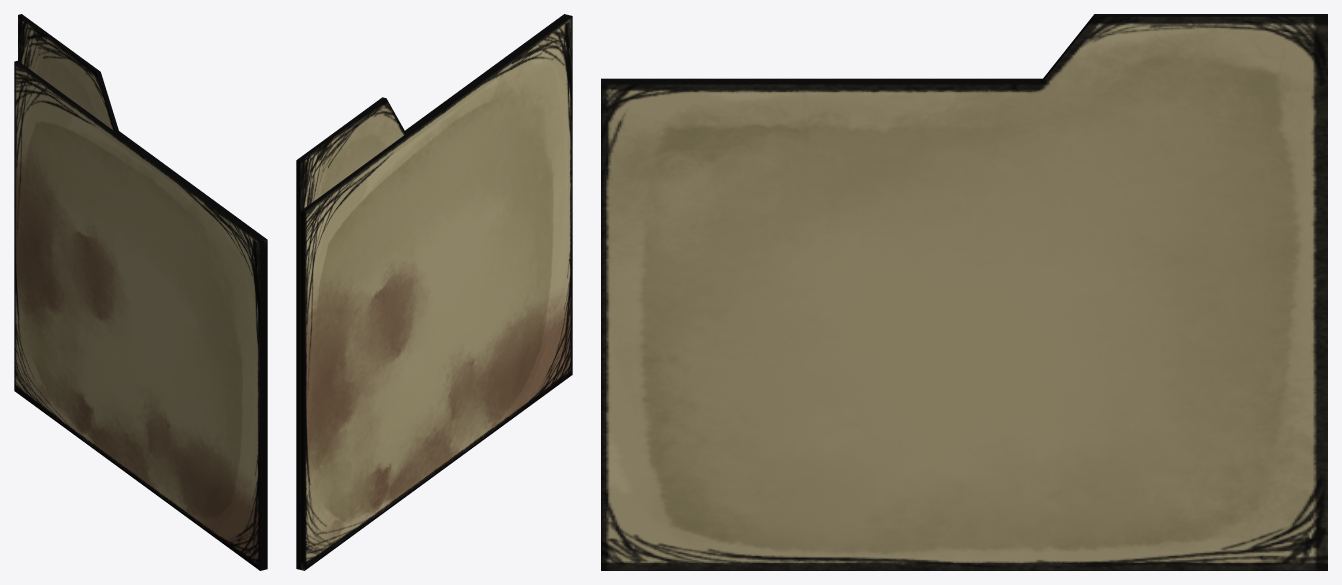
Rendered from folder_hax.fbx.
3 renders of one model, left to right at view 1: azimuth 30°, elevation 25°; view 2: azimuth 150°, elevation 25°; view 3: azimuth 270°, elevation 25°, orthographic. The views are drawn at different scales.
Parts seen in each view (by area): view 1: folder_front.013, folder_hax; view 2: folder_front.013, folder_hax; view 3: folder_hax, folder_front.013.
Part boxes in pixels (x1=…): folder_front.013: x1=14, y1=60, x2=263, y2=570; folder_hax: x1=18, y1=14, x2=267, y2=569; folder_front.013: x1=300, y1=15, x2=572, y2=570; folder_hax: x1=296, y1=14, x2=567, y2=569; folder_hax: x1=601, y1=14, x2=1327, y2=570; folder_front.013: x1=601, y1=78, x2=1042, y2=81.
Bounding box in the file's own units: 1.13 × 53.74 × 63.85.
Materials: 2 (2 with a texture image).
